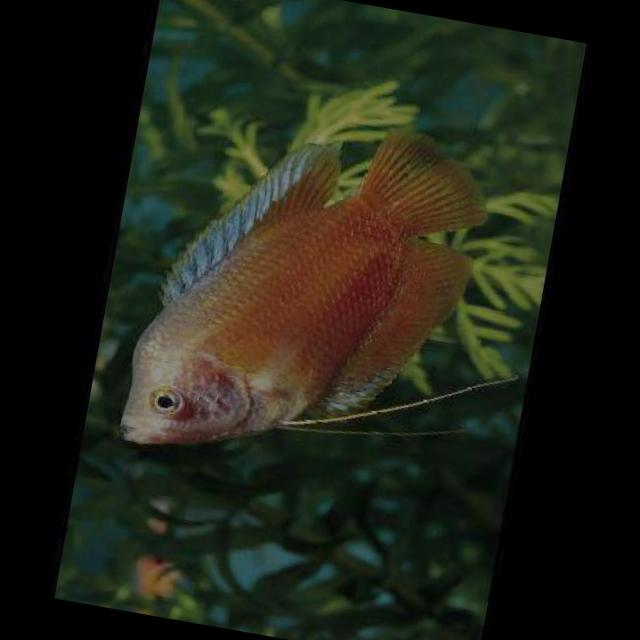Gourami: (109, 93, 496, 497)
